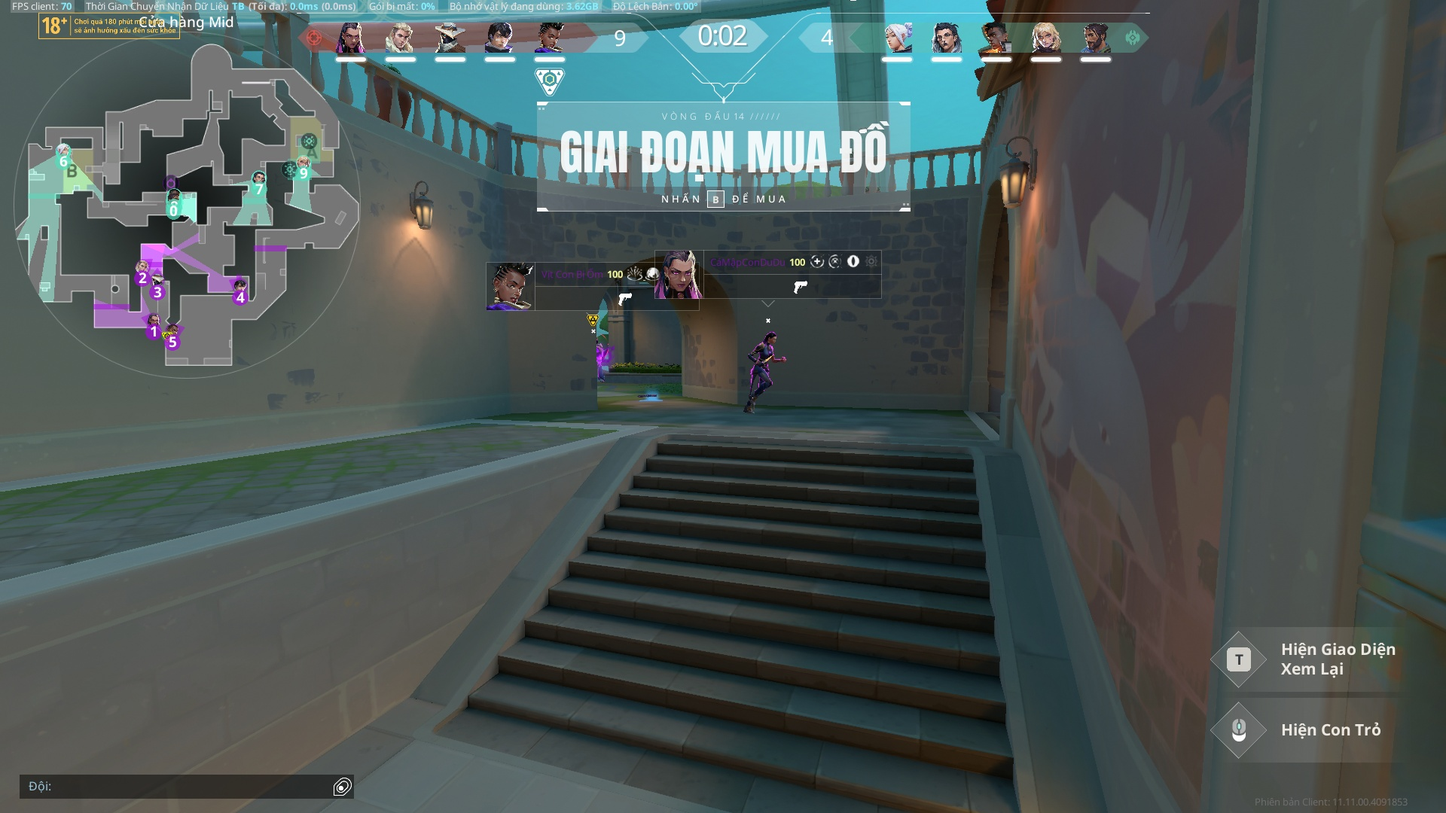body: (753, 341, 776, 368), (596, 344, 603, 362)
head: (764, 331, 777, 345)
